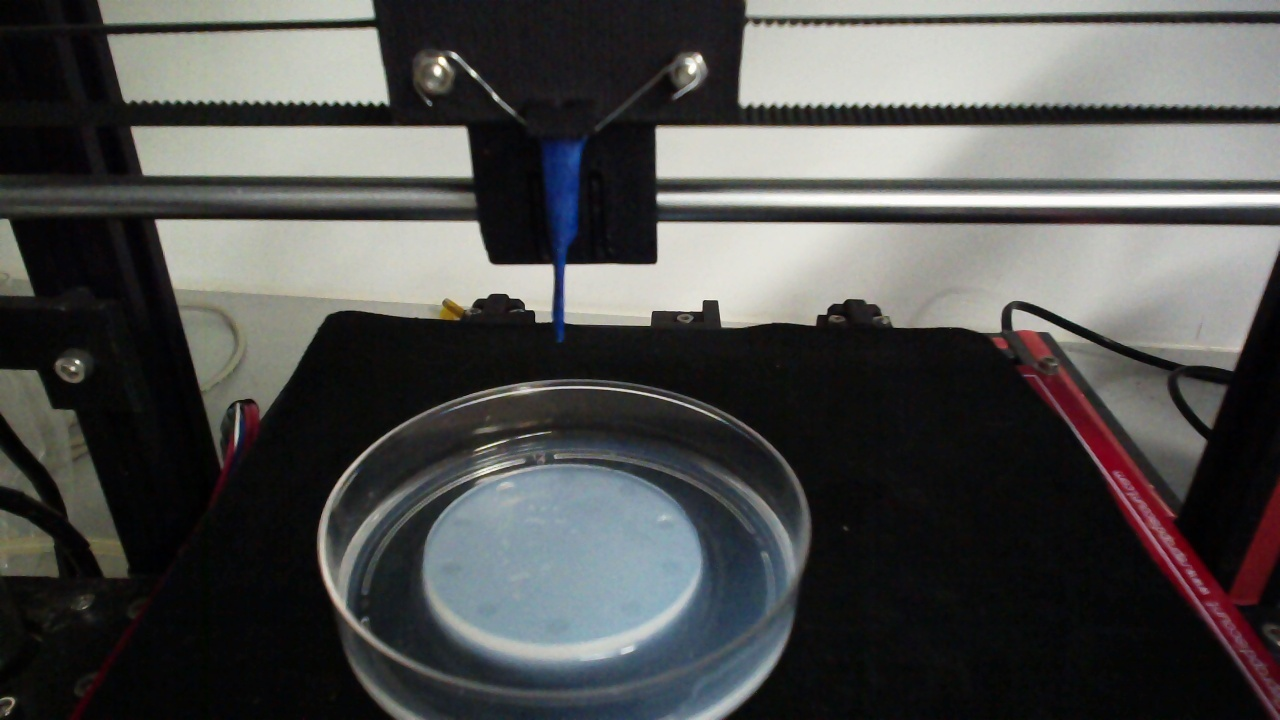groove: (545, 616, 572, 637), (438, 558, 464, 577), (620, 599, 643, 620), (654, 512, 677, 531), (475, 601, 499, 619), (556, 471, 580, 487), (617, 482, 638, 498), (661, 559, 682, 574), (451, 512, 471, 527), (495, 480, 516, 494)
needle: (546, 141, 581, 343)
